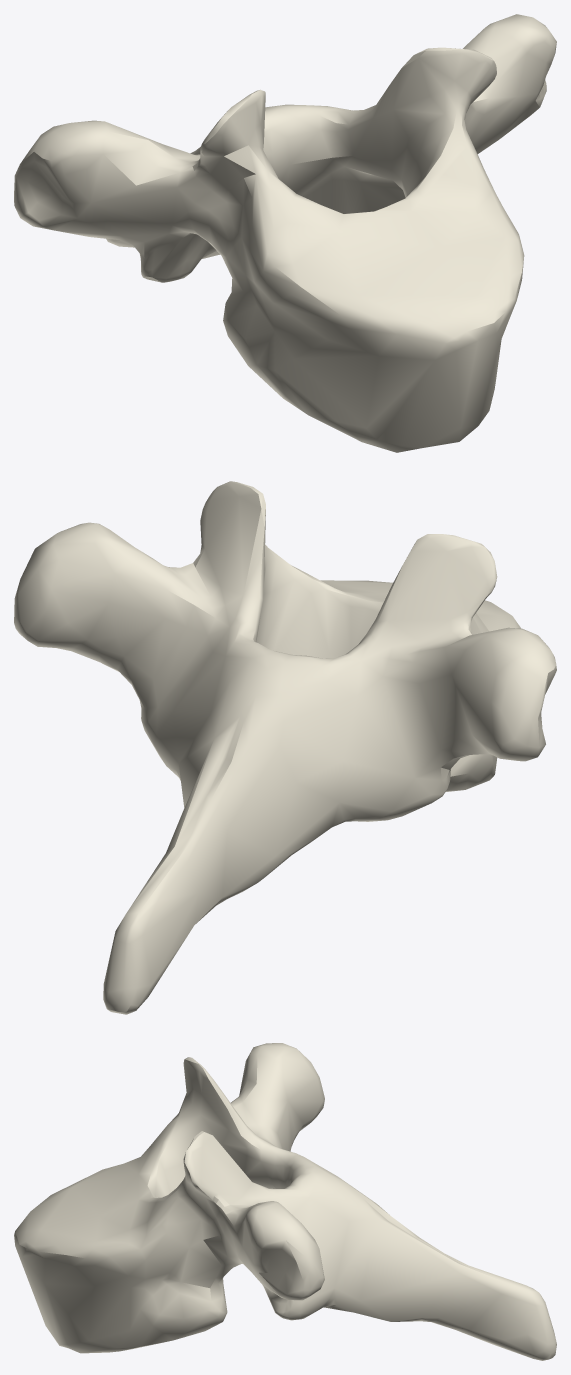
File: fma9209_fj3163.glb
The picture shows the model from 3 angles, top to bottom: view 1: azimuth 30°, elevation 25°; view 2: azimuth 150°, elevation 25°; view 3: azimuth 270°, elevation 25°; orthographic projection. The views are drawn at different scales.
Visible parts, largest first — view 1: FMA9209_FJ3163; view 2: FMA9209_FJ3163; view 3: FMA9209_FJ3163.
Boxes of the visible parts, <box> form: FMA9209_FJ3163: <box>14,14,556,452</box>; FMA9209_FJ3163: <box>14,481,556,1014</box>; FMA9209_FJ3163: <box>14,1043,556,1360</box>.
Size of the model in its own units: 0.0648 by 0.0396 by 0.0754.
